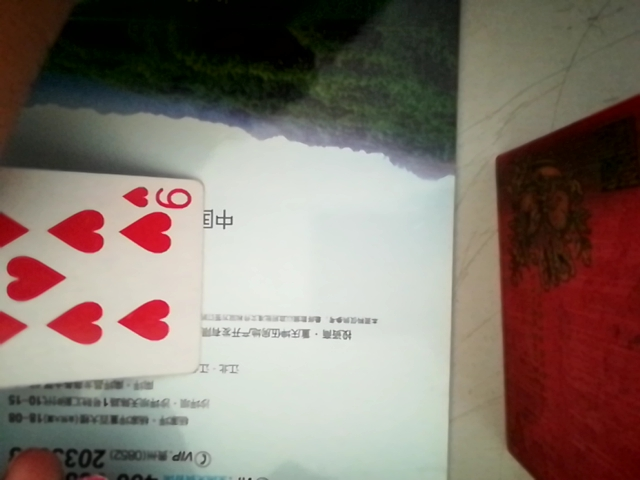hx 9: (0, 168, 206, 387)
